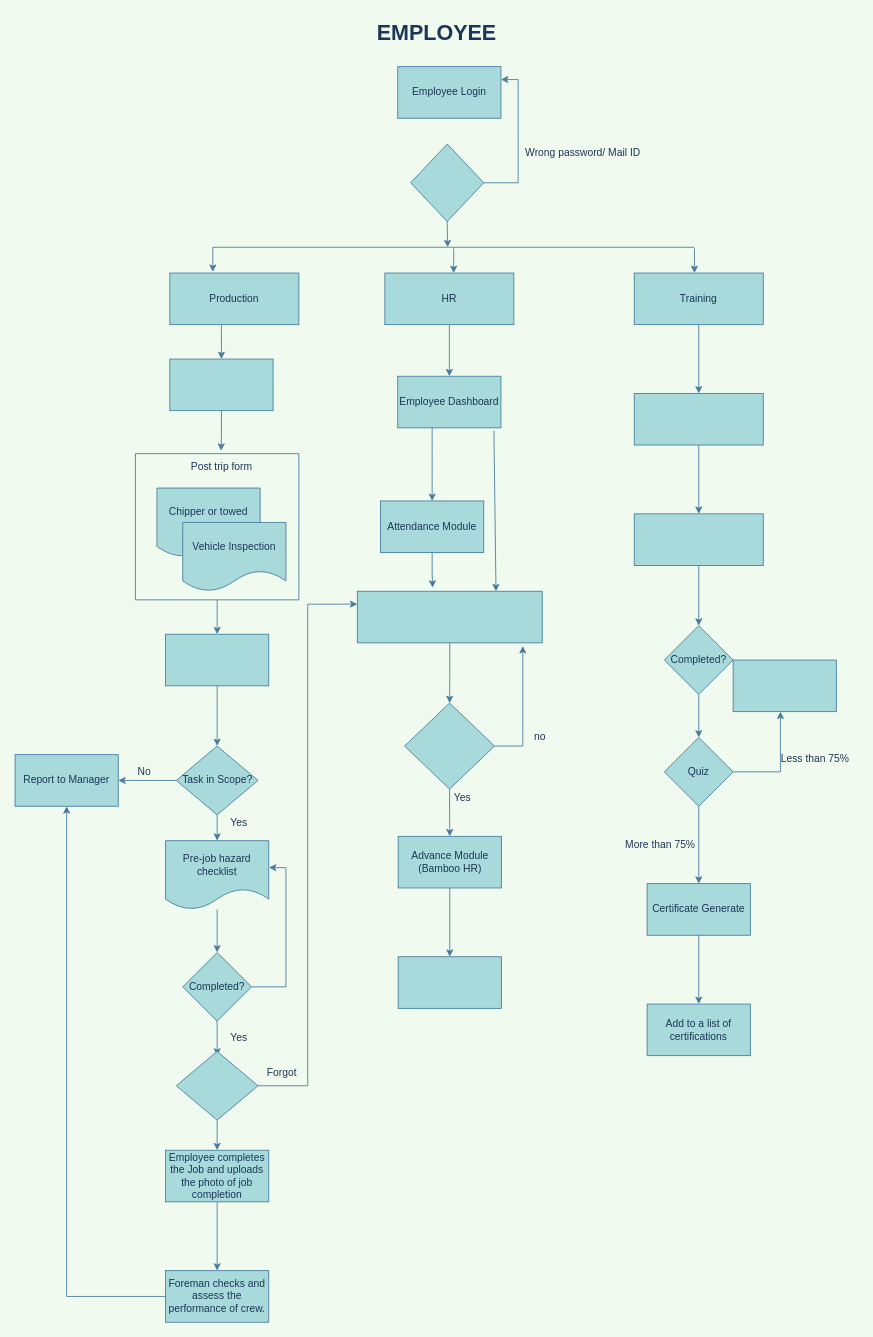
Some shapes in this 873 by 1337 pixel diagram are drawn without their labels. Here are the shapes that lost their labels. From the top down, the box of each, then its label:
(410, 143, 484, 221): Login correct?
(169, 358, 273, 411): List of vehicle for Vehicle Inspection
(633, 393, 763, 445): List of Course
(633, 513, 763, 565): Start the course
(356, 590, 542, 643): Attendance editing/ Leave Assignment (Time Modification Request)
(165, 633, 269, 686): Review the Task received from Admin
(732, 659, 836, 712): Attend Quiz Again
(404, 702, 494, 789): Leave Balance sufficient?
(397, 956, 501, 1008): Payslips generate
(175, 1050, 258, 1120): Checkin
